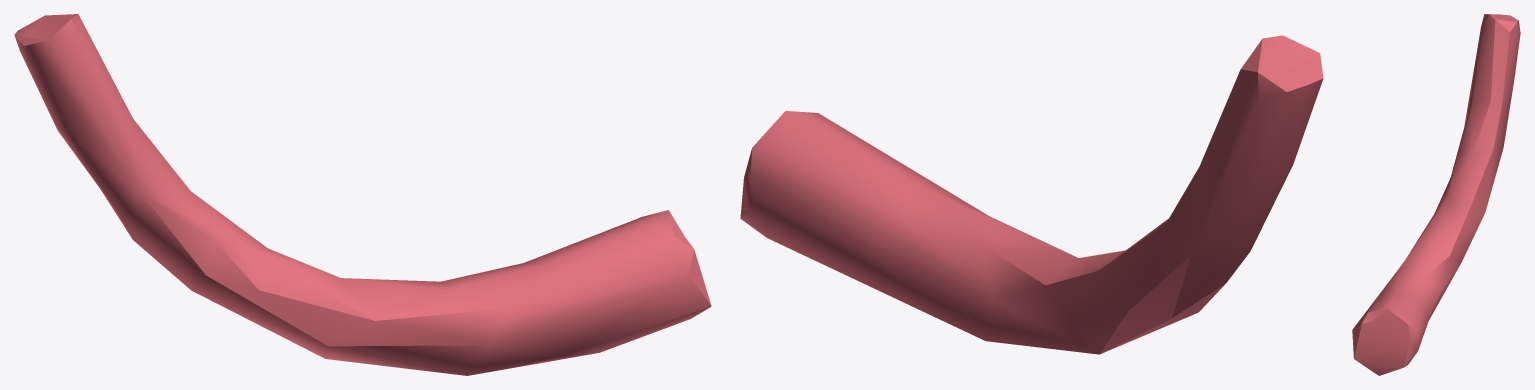
File: fma8627_fj6062.glb
3 views of the same model, side by side, from view 1: azimuth 30°, elevation 25°; view 2: azimuth 150°, elevation 25°; view 3: azimuth 270°, elevation 25° (orthographic). The views are drawn at different scales.
Parts seen in each view (by area): view 1: FMA8627_FJ6062; view 2: FMA8627_FJ6062; view 3: FMA8627_FJ6062.
Boxes of the visible parts, left/top/right/bottom form: FMA8627_FJ6062: left=14, top=14, right=711, bottom=375; FMA8627_FJ6062: left=740, top=35, right=1323, bottom=354; FMA8627_FJ6062: left=1352, top=14, right=1520, bottom=375.
Size of the model in its own units: 0.0193 by 0.0121 by 0.00831.
